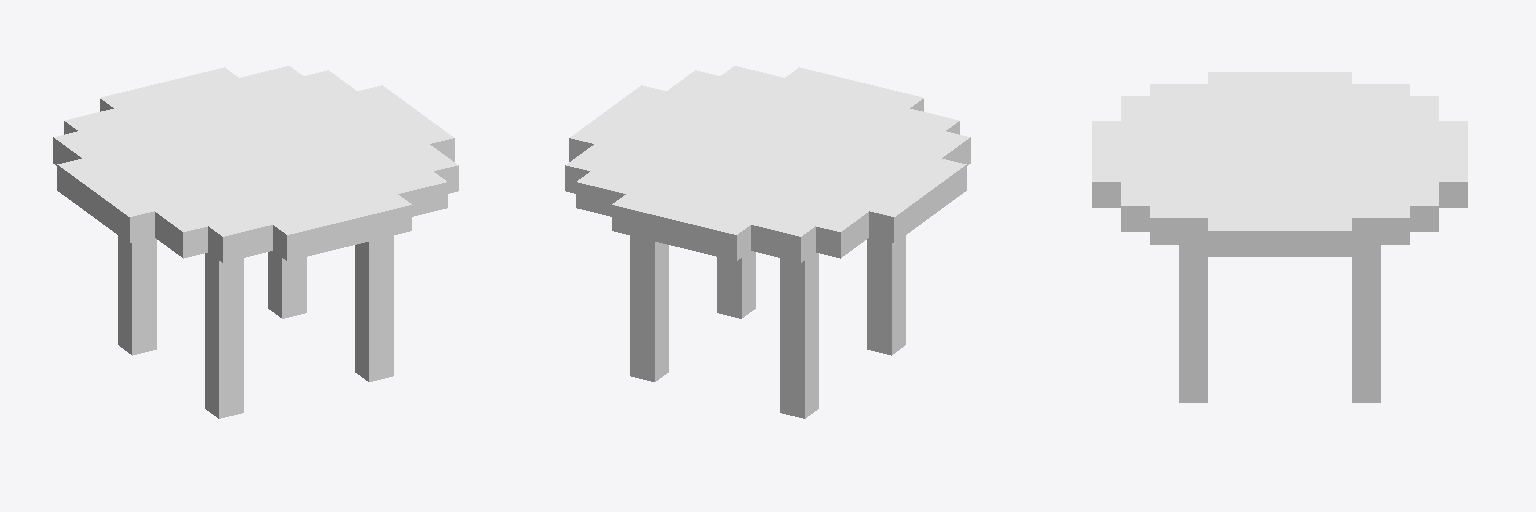
The model's file is Decor-75.obj.
The picture shows the model from 3 angles: view 1: azimuth 30°, elevation 25°; view 2: azimuth 150°, elevation 25°; view 3: azimuth 270°, elevation 25°; orthographic projection.
Visible parts, largest first — view 1: object 1; view 2: object 1; view 3: object 1.
Part boxes in pixels (x1,y1,x2,y2): object 1: (53, 66, 458, 418); object 1: (565, 66, 970, 418); object 1: (1092, 72, 1467, 402).
Size of the model in its own units: 1.3 by 0.8 by 1.3.